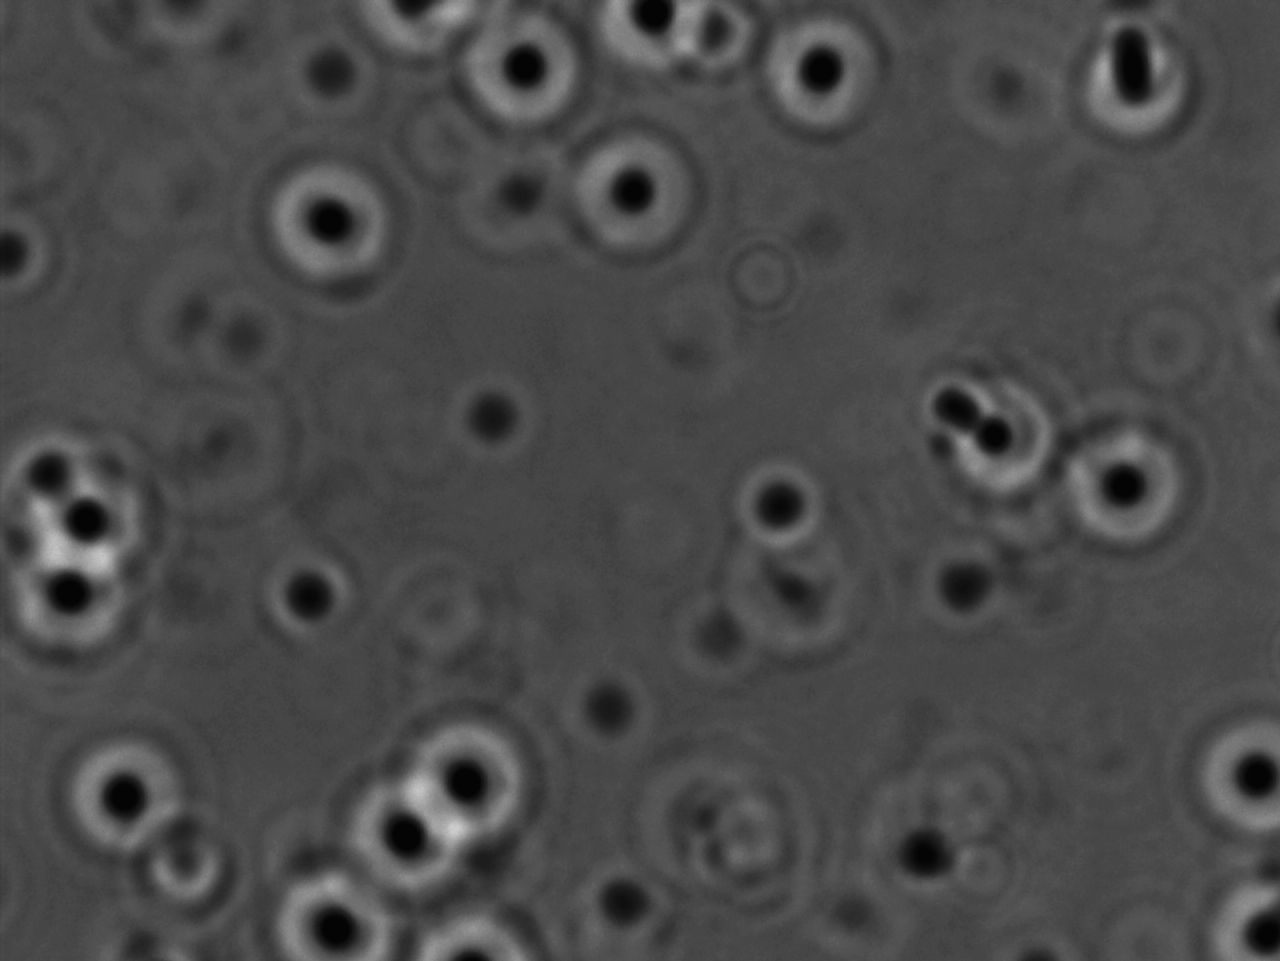depth:-32: (1040, 409, 1213, 556), (252, 152, 408, 312), (395, 705, 557, 857), (558, 116, 717, 269), (1049, 15, 1210, 165), (451, 1, 598, 146), (55, 727, 211, 857), (326, 767, 478, 898), (741, 13, 877, 148), (32, 453, 159, 588), (255, 851, 405, 961), (1176, 699, 1280, 851)
